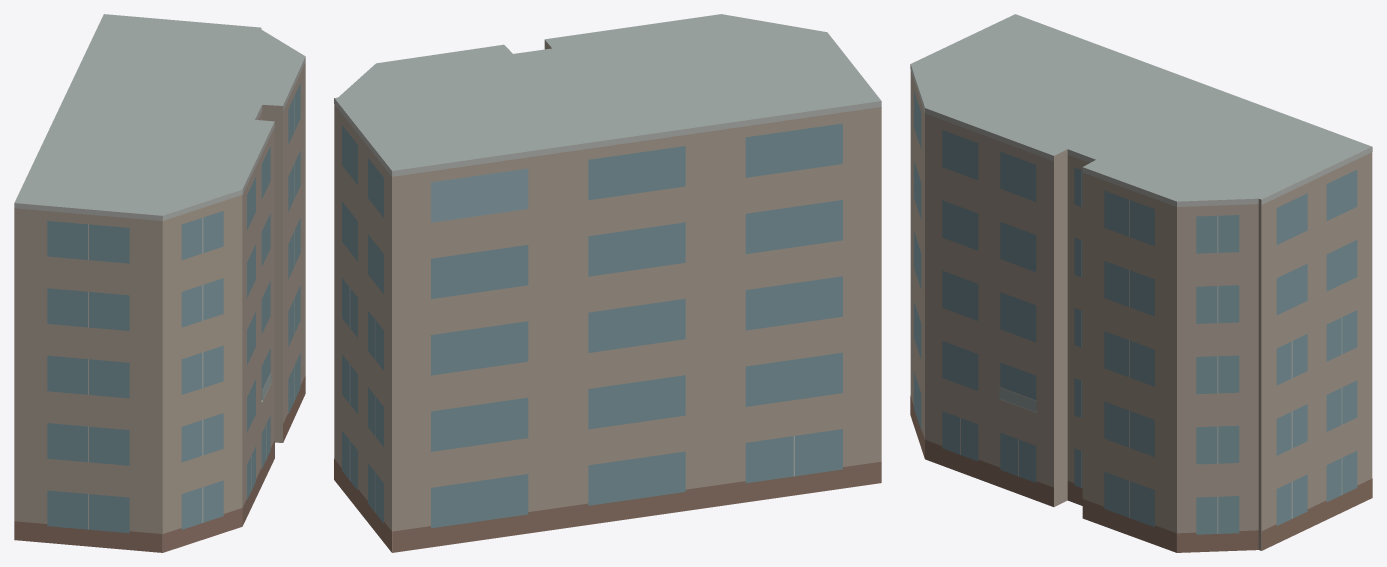
The model's file is survey-upis-32882384.glb.
3 views of the same model, side by side, from view 1: azimuth 30°, elevation 25°; view 2: azimuth 150°, elevation 25°; view 3: azimuth 270°, elevation 25° (orthographic). The views are drawn at different scales.
Visible parts, largest first — view 1: survey-upis-32882384.tmp; view 2: survey-upis-32882384.tmp; view 3: survey-upis-32882384.tmp.
Part boxes in pixels (x1,y1,x2,y2): survey-upis-32882384.tmp: (14,14,305,552); survey-upis-32882384.tmp: (334,14,881,552); survey-upis-32882384.tmp: (910,14,1372,552).
Bounding box in the file's own units: 18.22 × 15.9 × 18.95.
